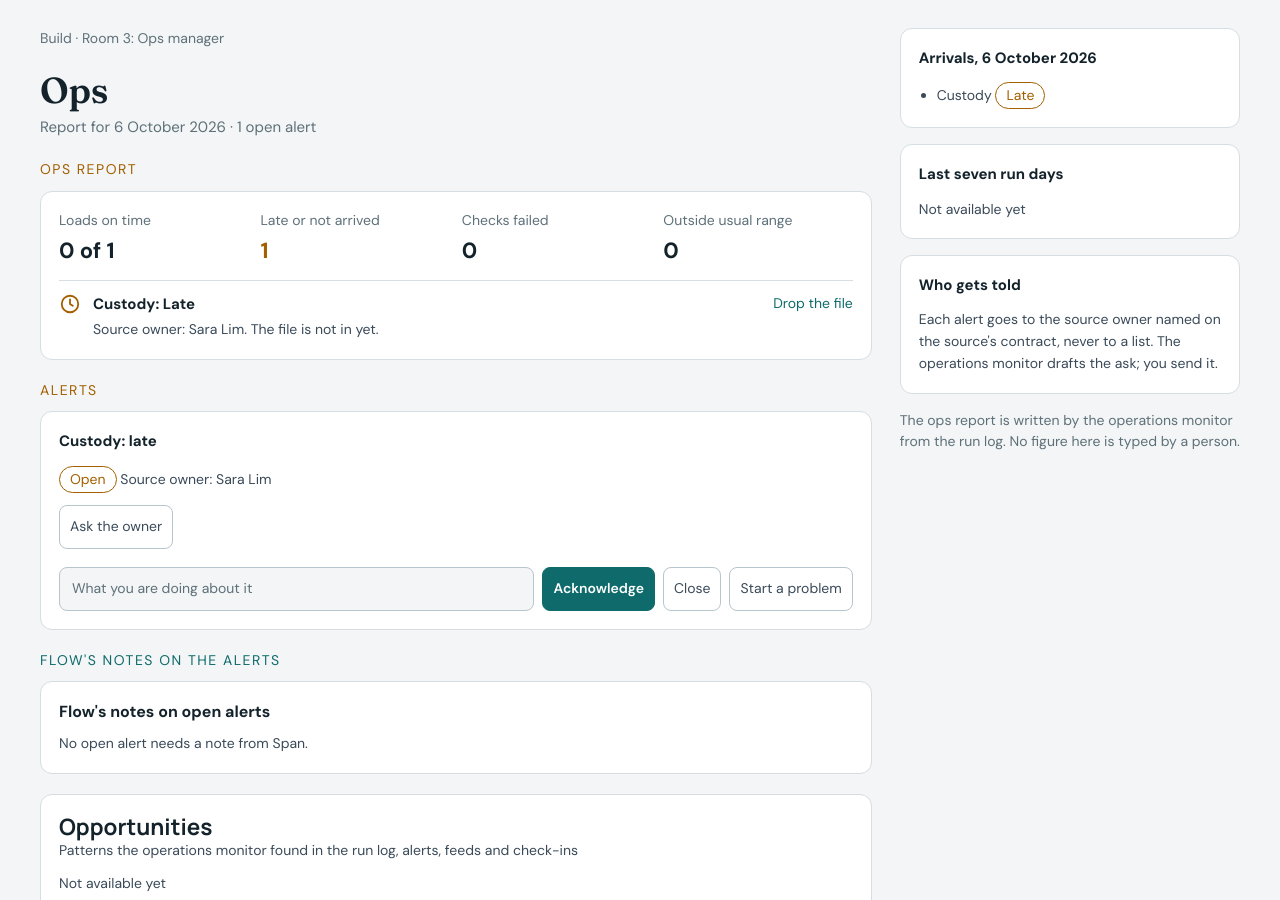
Scenario: Ops page › acknowledge posts a note and the next read shows who acknowledged
The width and height of the screenshot is (1280, 900).
Type "chasing Sara" into the field named "Note for custody".
click(297, 589); type("chasing Sara")  # box [59,567,534,611]
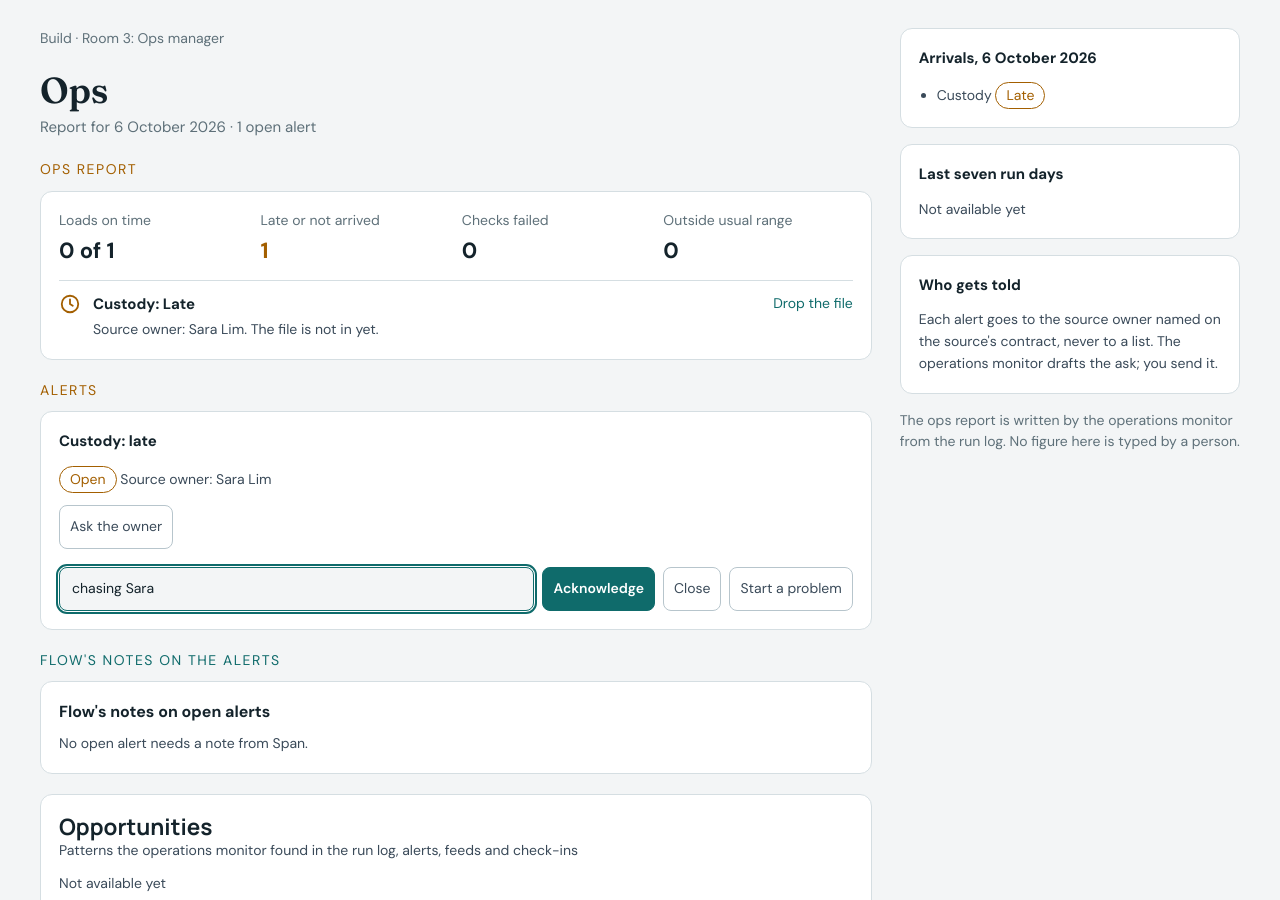
Click the button "Acknowledge".
click(599, 589)  # box [542,567,655,611]
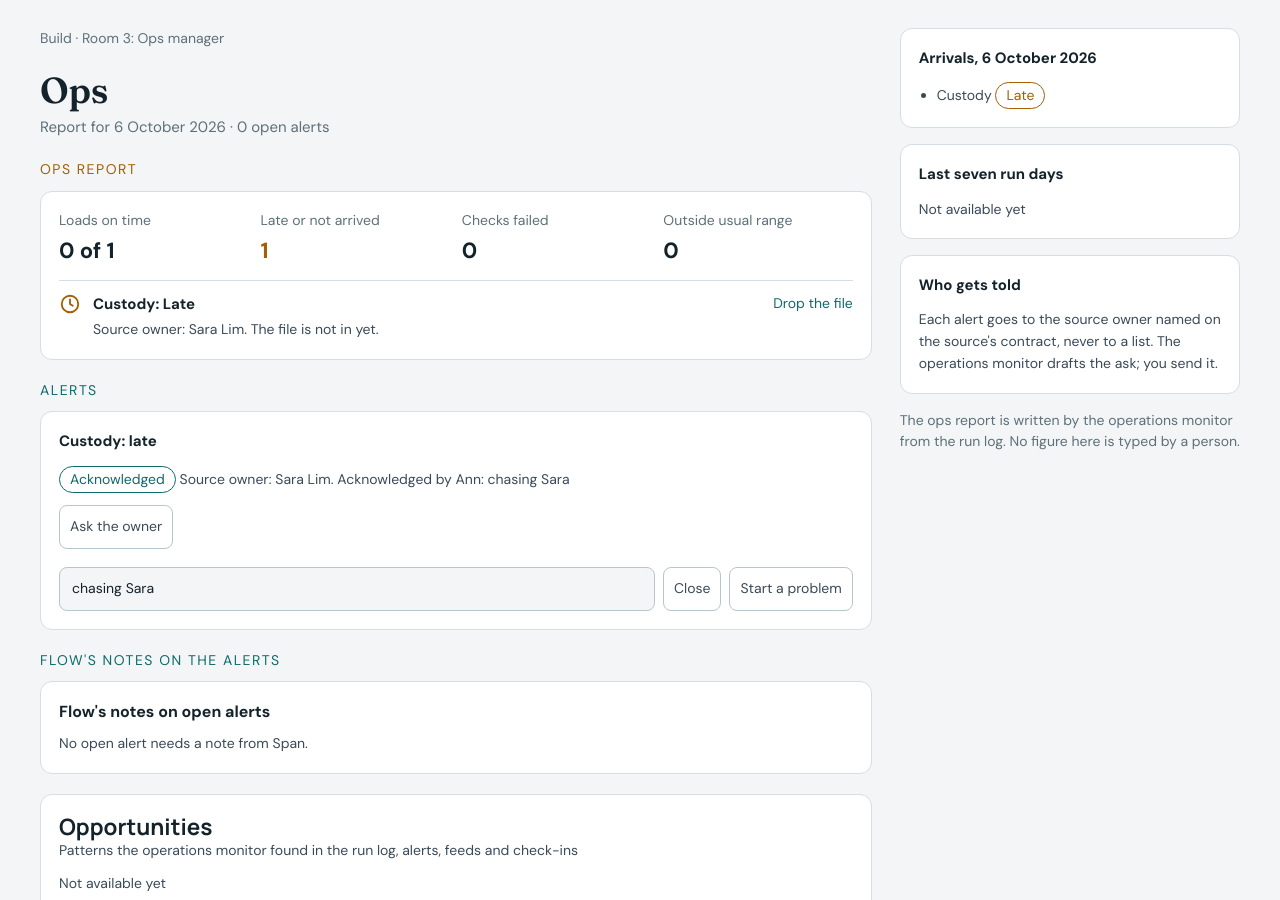
Expected: the text "Acknowledged by Ann: chasing Sara" is shown, [331,470,570,488]
